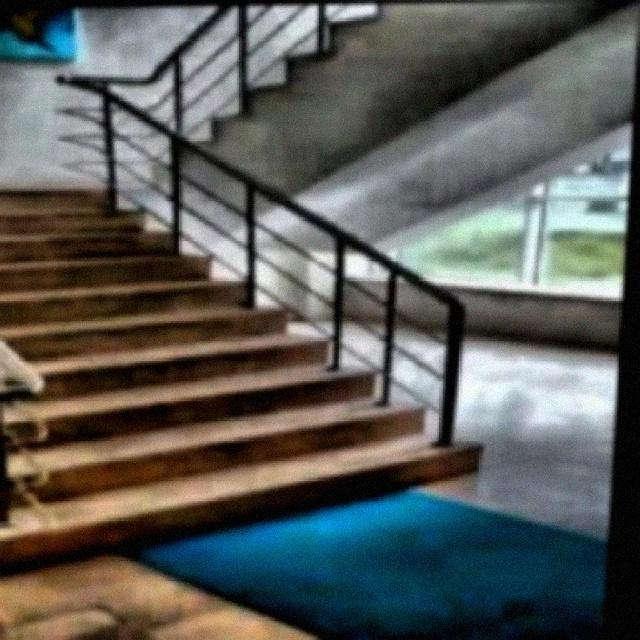stair: (1, 157, 512, 540)
